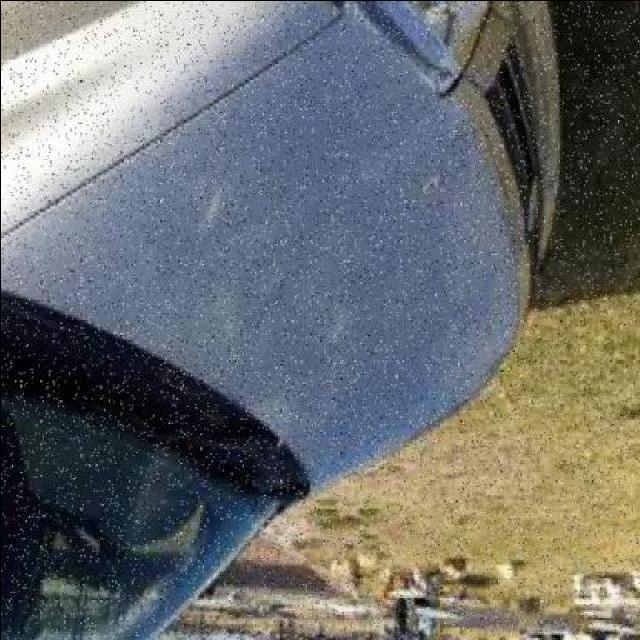bonnet-dent: (133, 70, 514, 453)
